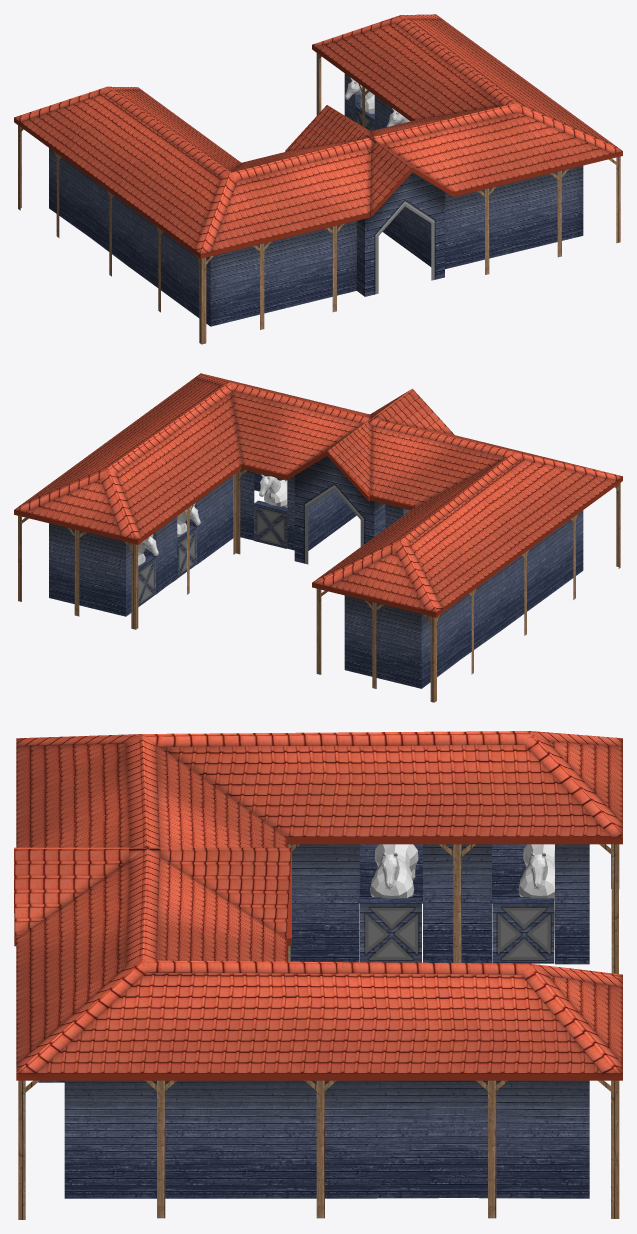
The model's file is stables3.fbx.
3 views of the same model, one above another, from view 1: azimuth 30°, elevation 25°; view 2: azimuth 150°, elevation 25°; view 3: azimuth 270°, elevation 25° (orthographic). The views are drawn at different scales.
Parts seen in each view (by area): view 1: Walls, Horse.005; view 2: Walls, Horse.004; view 3: Walls, Horse.007, Horse.008.
Boxes of the visible parts, x1,y1,x2,y2 form: Walls: (14, 14, 622, 344); Horse.005: (345, 77, 374, 114); Walls: (14, 373, 622, 702); Horse.004: (259, 474, 287, 507); Walls: (14, 731, 622, 1219); Horse.007: (370, 844, 418, 898); Horse.008: (518, 844, 554, 950).
Size of the model in its own units: 1795 by 517 by 1380.
Materials: 1 (1 with a texture image).
